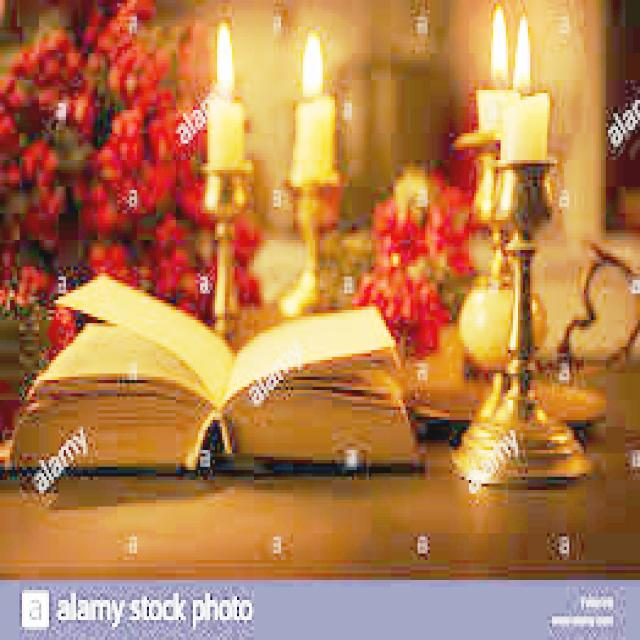api: (294, 25, 333, 105), (504, 8, 536, 84), (480, 1, 509, 78), (209, 15, 233, 95)
